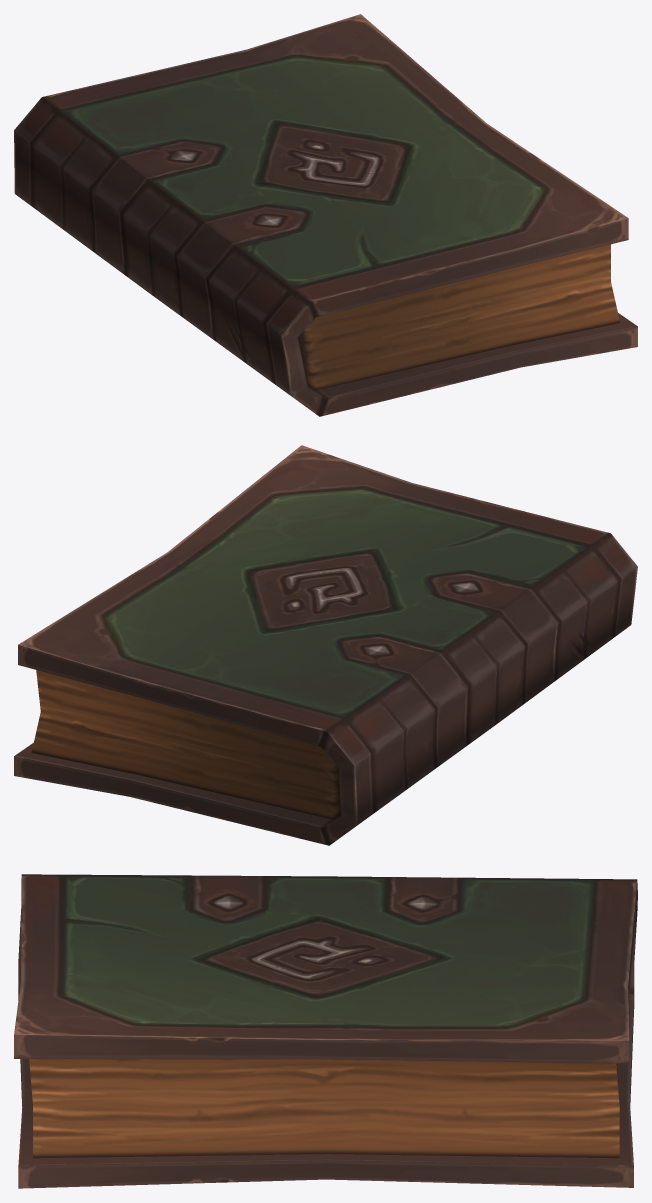
The model's file is Book_3.FBX.
3 views of the same model, one above another, from view 1: azimuth 30°, elevation 25°; view 2: azimuth 150°, elevation 25°; view 3: azimuth 270°, elevation 25° (orthographic). The views are drawn at different scales.
Parts seen in each view (by area): view 1: Book_3; view 2: Book_3; view 3: Book_3.
Boxes of the visible parts, x1=… form: Book_3: x1=14, y1=14, x2=637, y2=416; Book_3: x1=14, y1=445, x2=637, y2=845; Book_3: x1=14, y1=874, x2=637, y2=1188.
Bounding box in the file's own units: 286 × 103 × 393.
